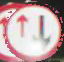Two way: (3, 0, 63, 61)
